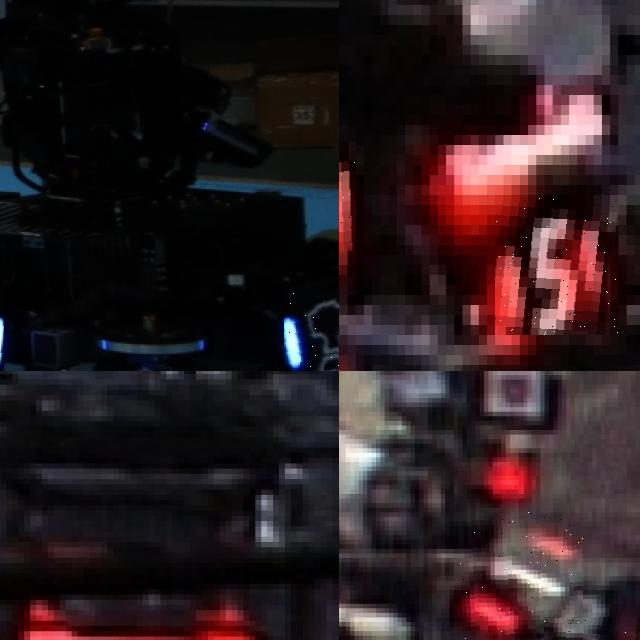Bs: (284, 288, 339, 371)
R1: (453, 512, 583, 640)
R5: (495, 195, 619, 335)
